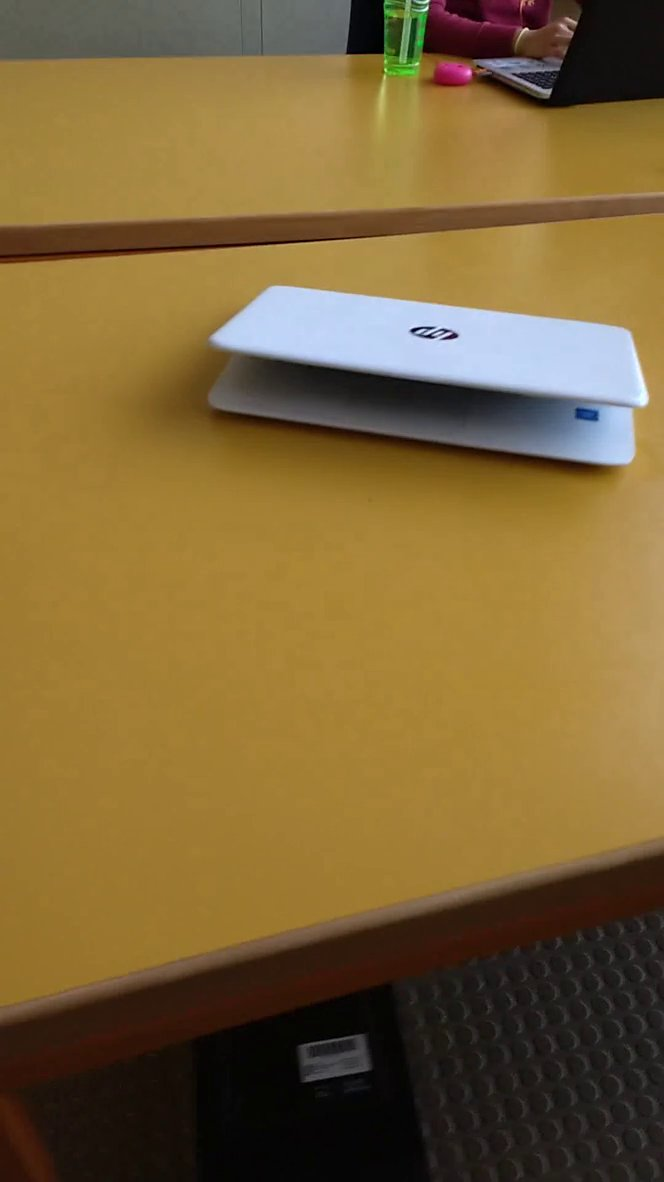laptop: (194, 266, 658, 513)
